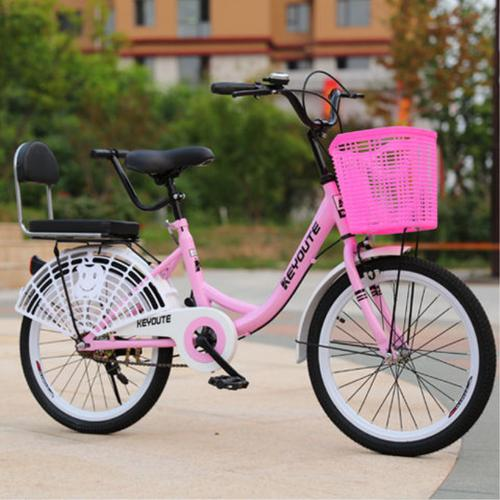单车: (5, 63, 500, 475)
